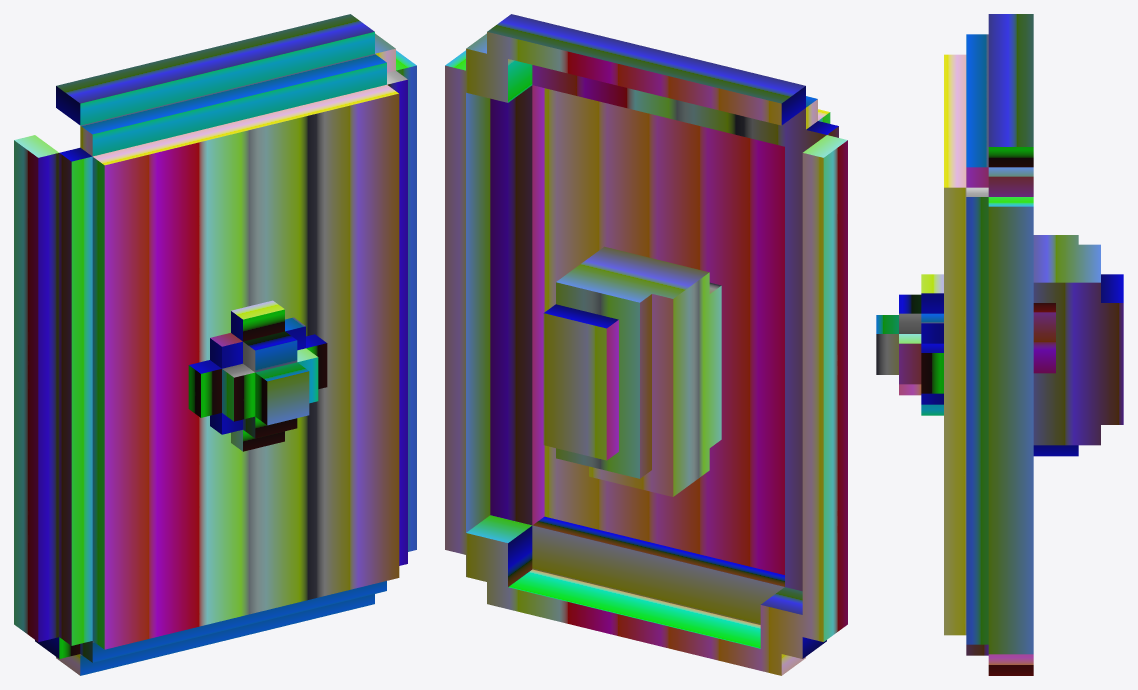
The model's file is cogiendo_tortuga.fbx.
3 views of the same model, side by side, from view 1: azimuth 30°, elevation 25°; view 2: azimuth 150°, elevation 25°; view 3: azimuth 270°, elevation 25° (orthographic). The views are drawn at different scales.
Parts seen in each view (by area): view 1: cogiendo_Tortuga.001; view 2: cogiendo_Tortuga.001; view 3: cogiendo_Tortuga.001.
Part boxes in pixels (x1,y1,x2,y2): cogiendo_Tortuga.001: [14, 14, 416, 675]; cogiendo_Tortuga.001: [445, 14, 847, 675]; cogiendo_Tortuga.001: [876, 14, 1123, 675].
Bounding box in the file's own units: 180 × 260 × 110.
